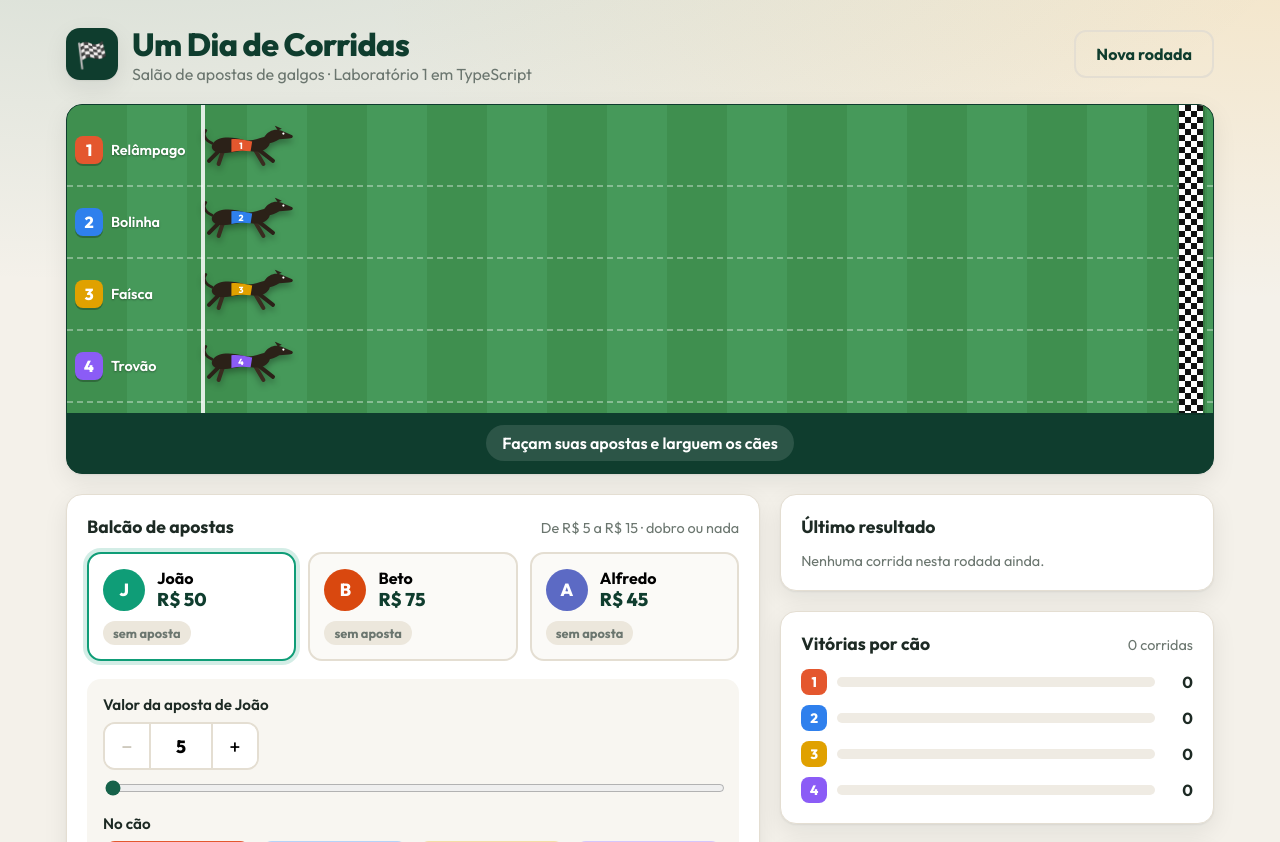
Test: balcão de apostas › cancela a aposta e volta a desabilitar "Corram!"
Click the radio button labelled "J João R$ 50 sem aposta" at x=192, y=606, box [87,552,296,661]
(page scrolled)
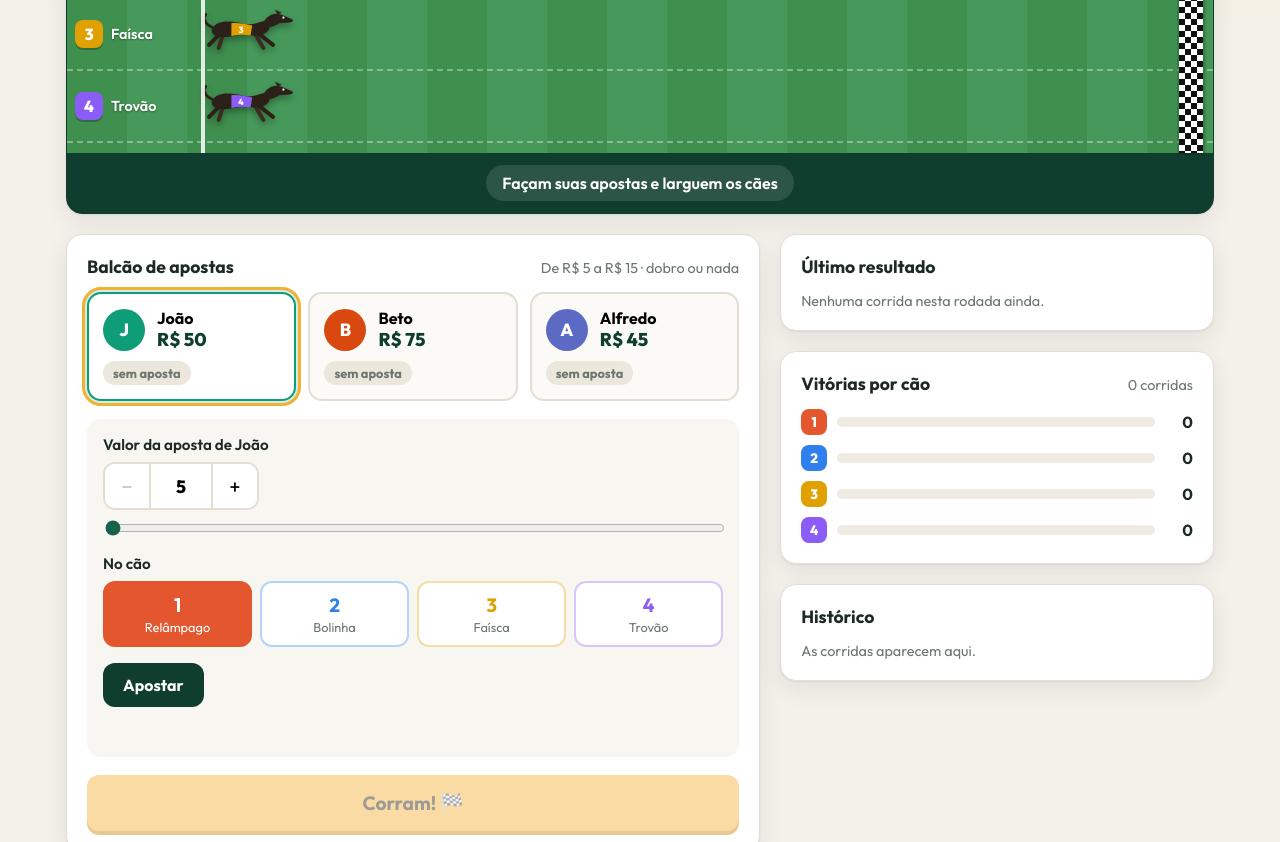
Click the radio button labelled "2 Bolinha" at x=334, y=614, box [260,581,409,647]
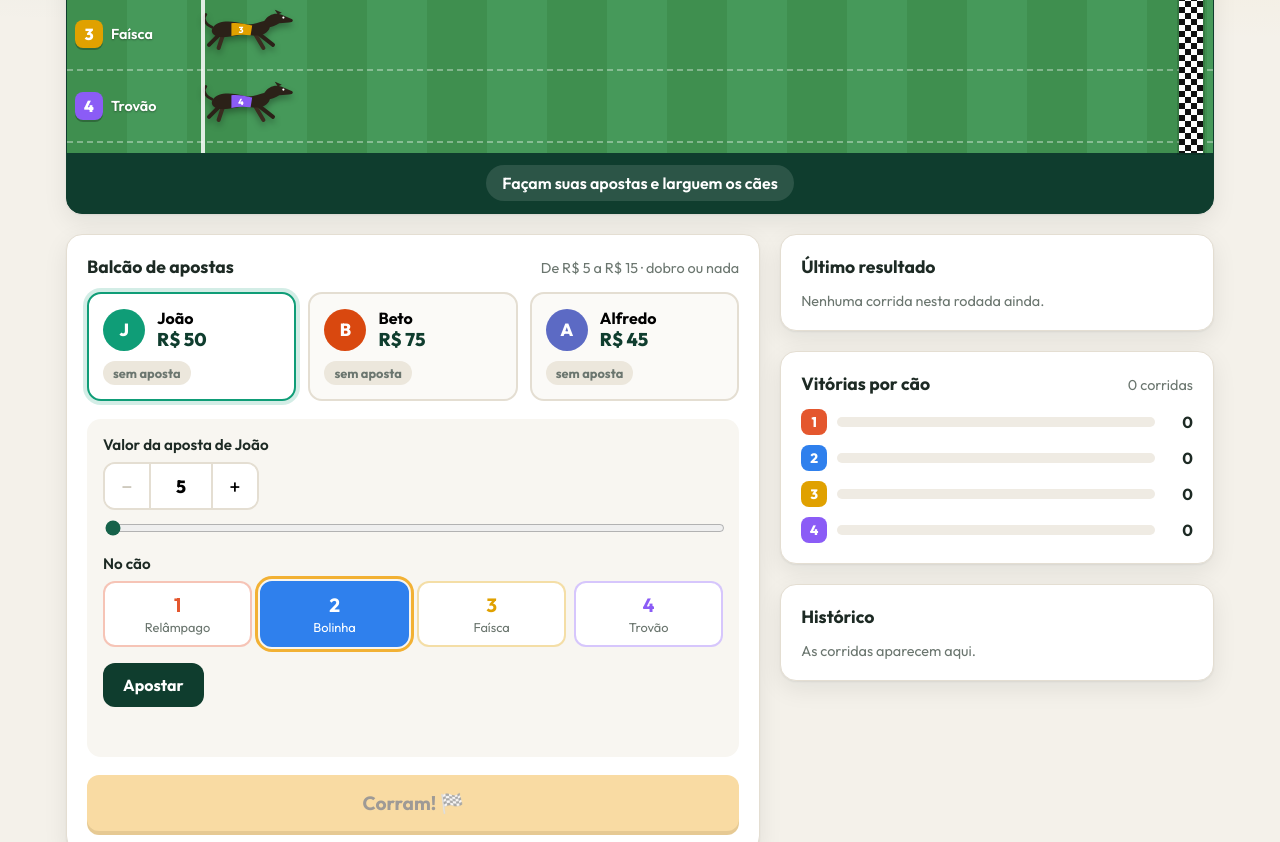
Replace the text in the number field with "12" at x=181, y=486, box [149,464,213,508]
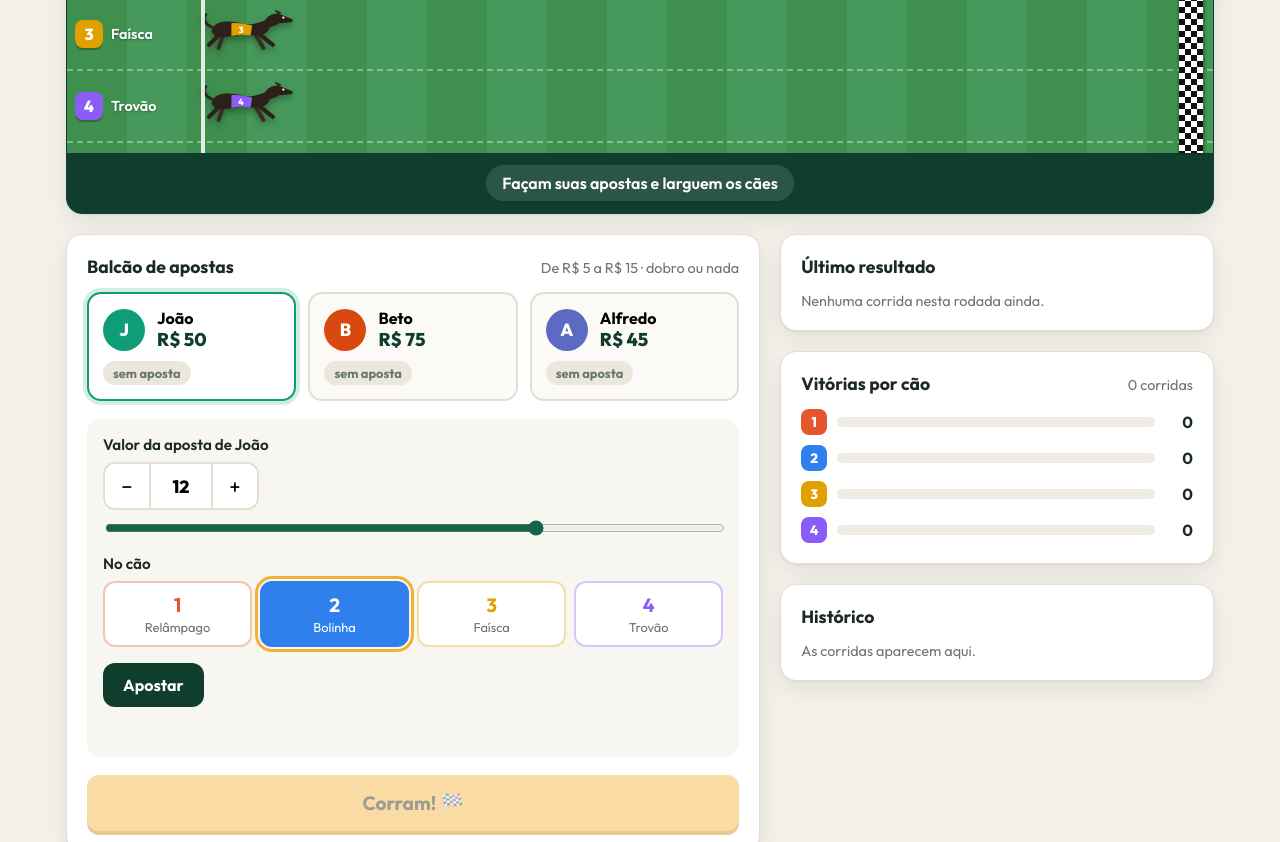
Click the button "Apostar" at x=153, y=685, box [103,663,204,707]
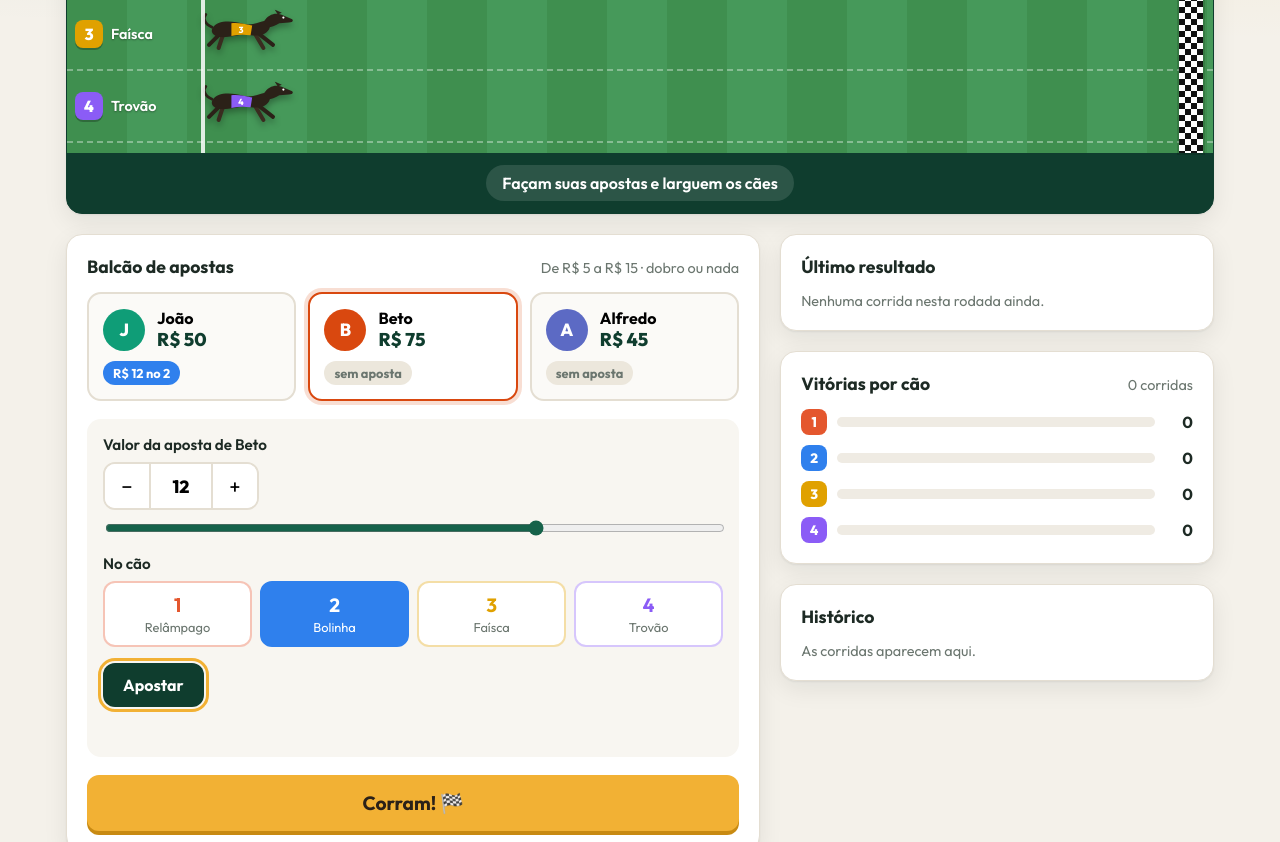
Click the radio button labelled "J João R$ 50 R$ 12 no 2" at x=192, y=346, box [87,292,296,401]
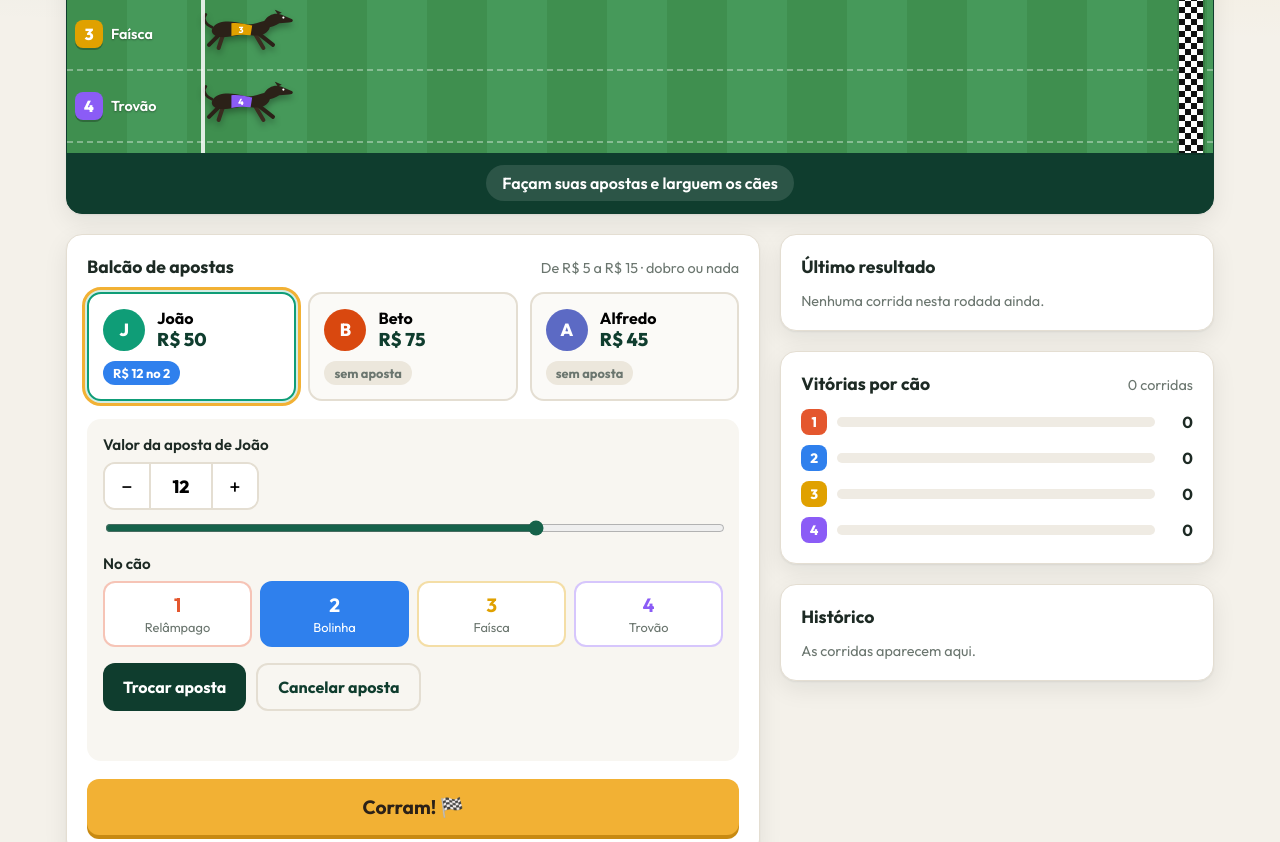
Now the button "Trocar aposta" is shown, box [103,663,246,711]
Click the button "Cancelar aposta" at x=339, y=687, box [256,663,421,711]
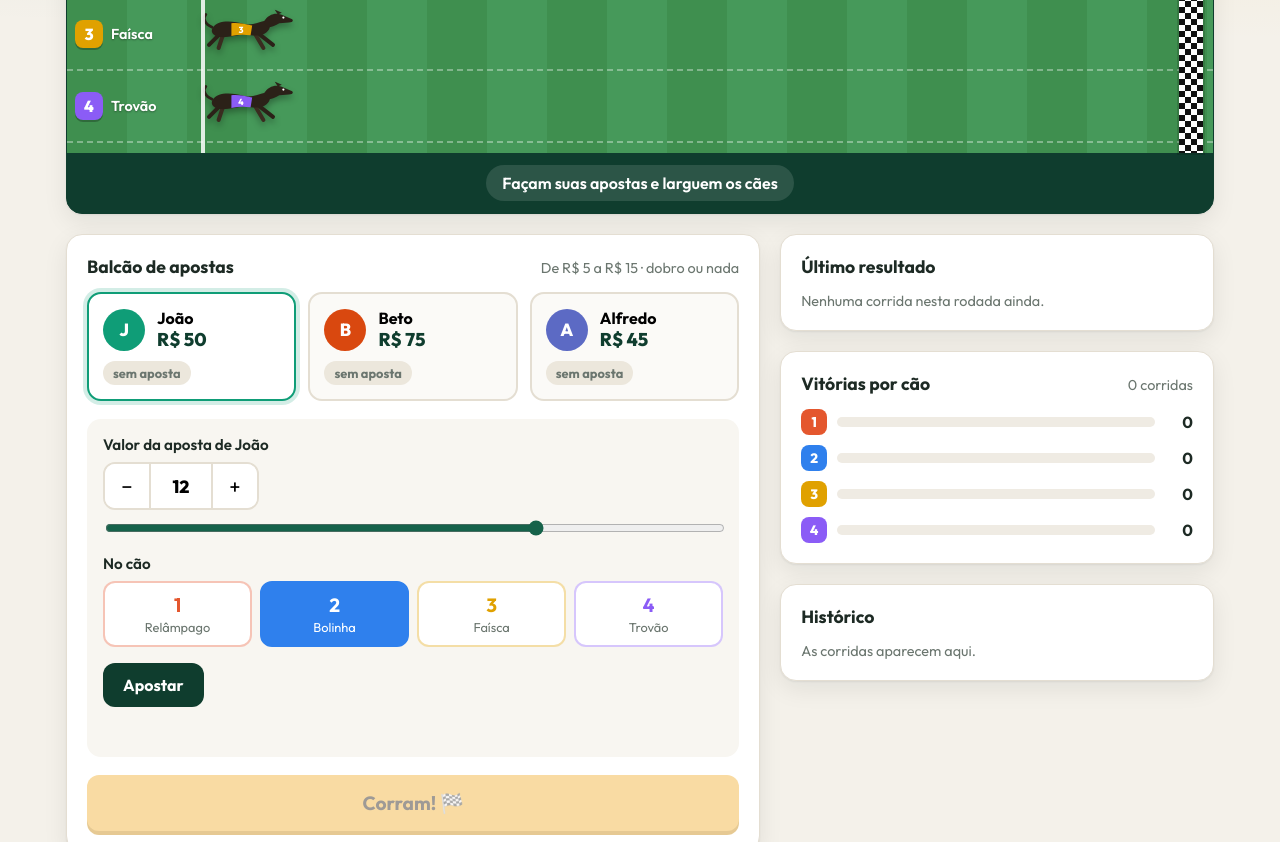
Expected: the text "sem aposta" is shown 3 times, [103,361,190,385]; [324,361,412,385]; [546,361,633,385]
Now the button "Corram! 🏁" is disabled, box [87,775,739,831]
